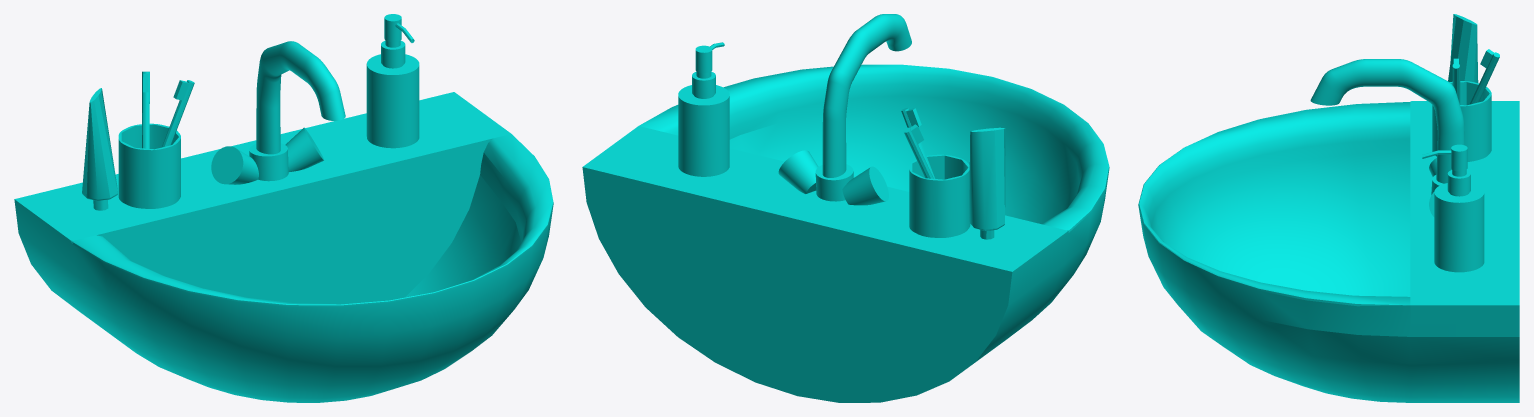
Rendered from Waschbecken.glb.
The picture shows the model from 3 angles, left to right: view 1: azimuth 30°, elevation 25°; view 2: azimuth 150°, elevation 25°; view 3: azimuth 270°, elevation 25°; orthographic projection. The views are drawn at different scales.
Visible parts, largest first — view 1: Cube.011; view 2: Cube.011; view 3: Cube.011.
Part boxes in pixels (bbox=[...]): Cube.011: bbox=[14, 14, 553, 402]; Cube.011: bbox=[582, 14, 1109, 402]; Cube.011: bbox=[1138, 14, 1519, 402].
Bounding box in the file's own units: 1.78 × 1.27 × 1.4.
